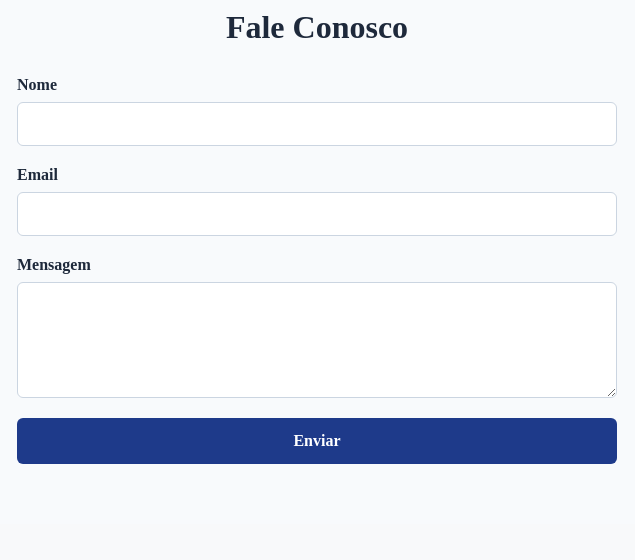
Test case: FormContato Component › Cenário 1 — displays validation errors when submitting empty form
Click the submit button
Step 1. Click the button "Enviar" → (317, 441), box [17,418,617,464]
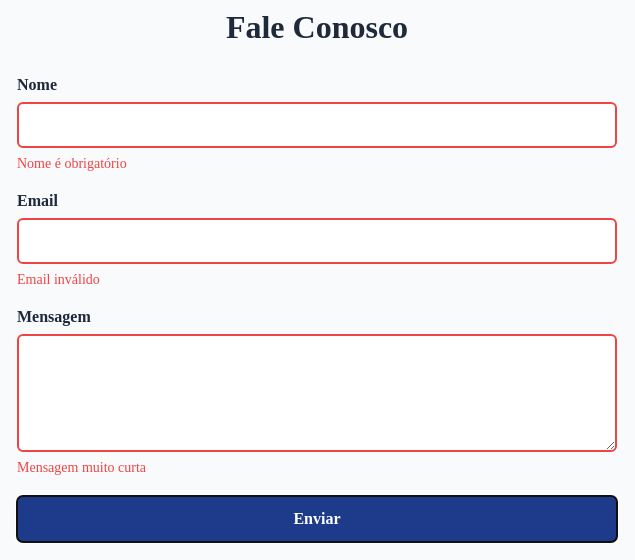
Expected: the text "Nome é obrigatório" is shown, [17,156,127,171]
Expected: the text "Email inválido" is shown, [17,272,100,287]
Expected: the text "Mensagem muito curta" is shown, [17,460,146,475]
